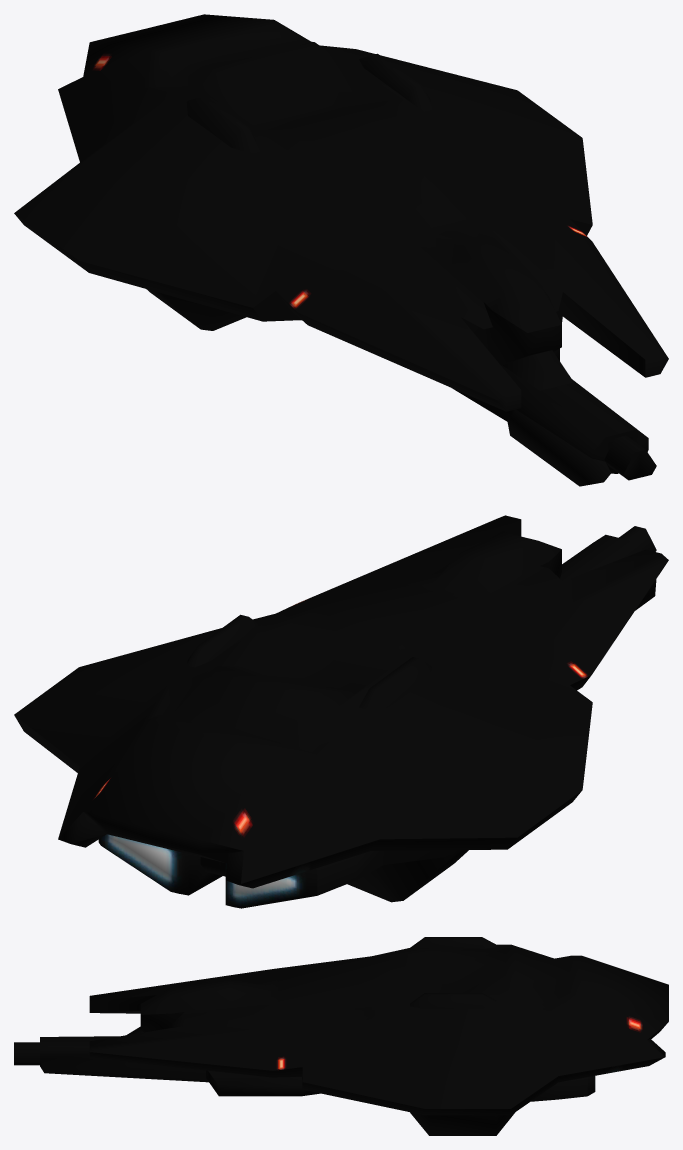
File: hgn_sf_intc_01_t4.glb
3 renders of one model, top to bottom at view 1: azimuth 30°, elevation 25°; view 2: azimuth 150°, elevation 25°; view 3: azimuth 270°, elevation 25°, orthographic. The views are drawn at different scales.
Parts seen in each view (by area): view 1: hgn_sf_intc_01_t4_LOD0; view 2: hgn_sf_intc_01_t4_LOD0; view 3: hgn_sf_intc_01_t4_LOD0.
Boxes of the visible parts, left/top/right/bottom form: hgn_sf_intc_01_t4_LOD0: left=14, top=14, right=668, bottom=486; hgn_sf_intc_01_t4_LOD0: left=14, top=515, right=668, bottom=908; hgn_sf_intc_01_t4_LOD0: left=14, top=937, right=668, bottom=1135.
Size of what is drawn, in the model's own units: 0.3116 by 0.1188 by 0.5289.
Materials: 1 (1 with a texture image).
